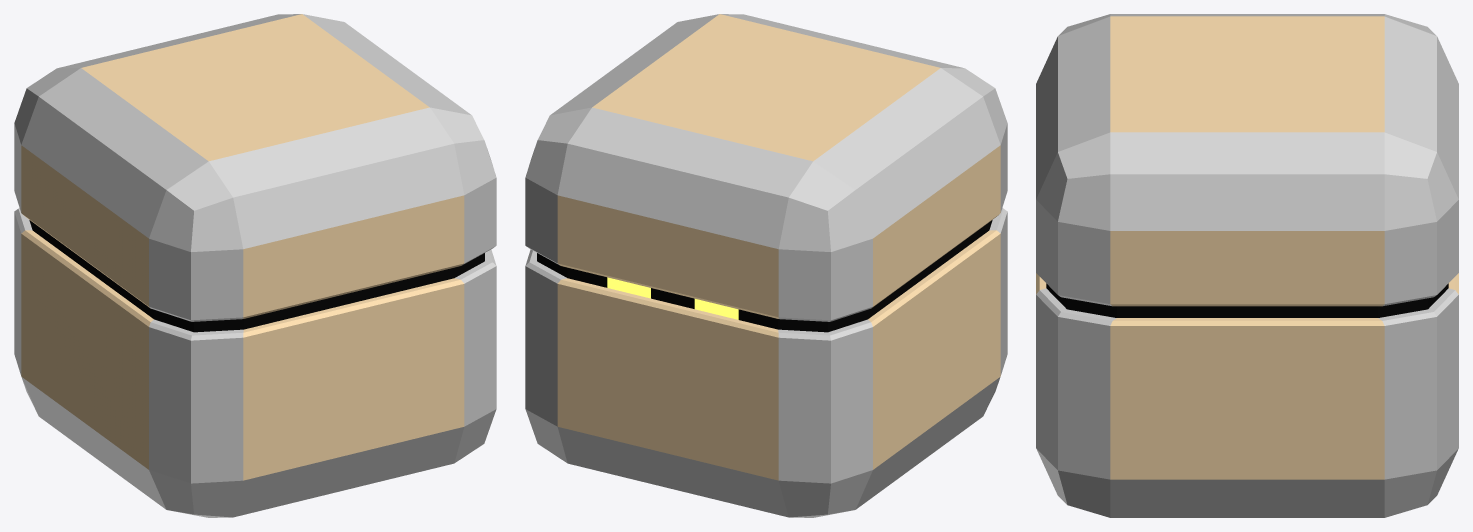
The model's file is body.fbx.
The picture shows the model from 3 angles, left to right: view 1: azimuth 30°, elevation 25°; view 2: azimuth 150°, elevation 25°; view 3: azimuth 270°, elevation 25°; orthographic projection. The views are drawn at different scales.
Parts seen in each view (by area): view 1: Player; view 2: Player; view 3: Player.
Part boxes in pixels (x1,y1,x2,y2): Player: (14, 14, 496, 517); Player: (525, 14, 1007, 517); Player: (1036, 14, 1458, 517).
Size of the model in its own units: 100 by 100 by 100.
